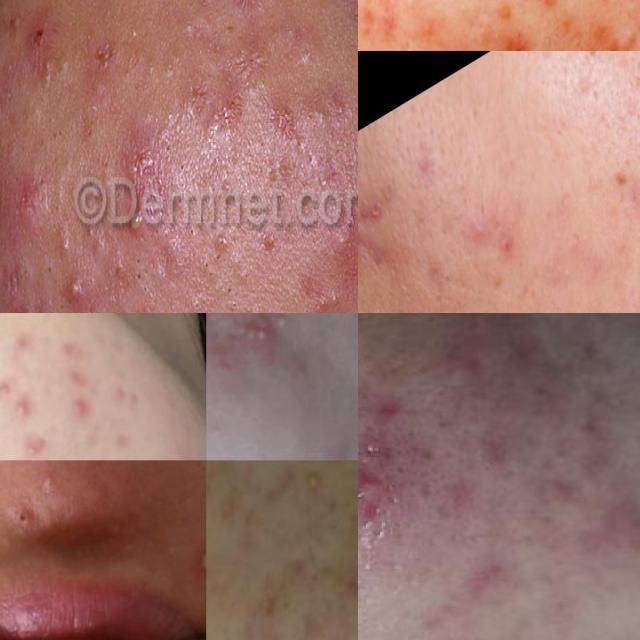acne_scars: (358, 170, 404, 241), (492, 9, 542, 51), (358, 438, 422, 466)
comedone: (294, 461, 329, 490)
cystic: (358, 465, 439, 575)
papule: (45, 330, 103, 386), (62, 386, 91, 434), (9, 325, 38, 362), (110, 380, 140, 413), (36, 468, 59, 502), (73, 460, 106, 474)
pustule: (10, 433, 48, 460), (10, 395, 38, 427), (0, 376, 20, 403), (196, 538, 207, 576)
sebo-crystan-conglo: (212, 313, 292, 345)
